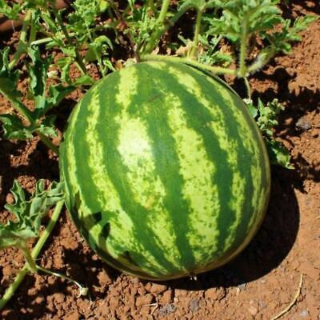dua_hau: (58, 58, 276, 280)
